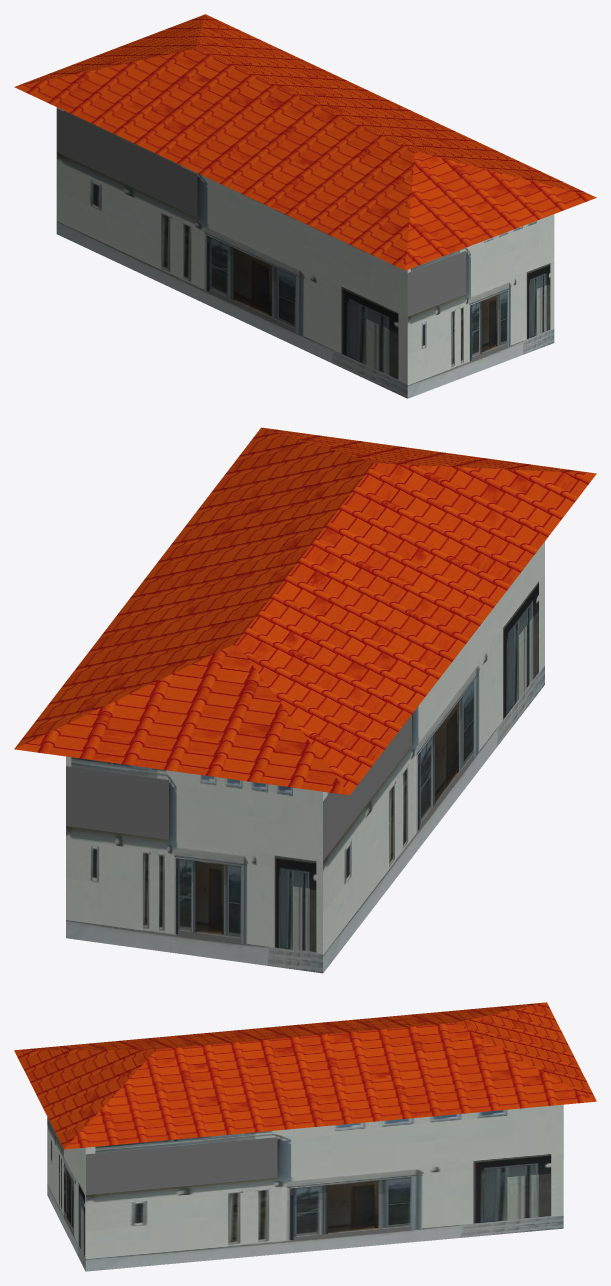
3 views of the same model, one above another, from view 1: azimuth 30°, elevation 25°; view 2: azimuth 150°, elevation 25°; view 3: azimuth 270°, elevation 25° (orthographic). The views are drawn at different scales.
Parts seen in each view (by area): view 1: CityEngineMaterial_12_m, CityEngineMaterial_11_m; view 2: CityEngineMaterial_12_m, CityEngineMaterial_11_m; view 3: CityEngineMaterial_11_m, CityEngineMaterial_12_m.
Part boxes in pixels (x1,y1,x2,y2): CityEngineMaterial_12_m: (14,14,596,270); CityEngineMaterial_11_m: (56,107,554,398); CityEngineMaterial_12_m: (14,427,596,795); CityEngineMaterial_11_m: (66,541,544,973); CityEngineMaterial_11_m: (47,1104,563,1271); CityEngineMaterial_12_m: (14,1002,596,1149).
Size of the model in its own units: 11.62 by 6.47 by 19.45.
